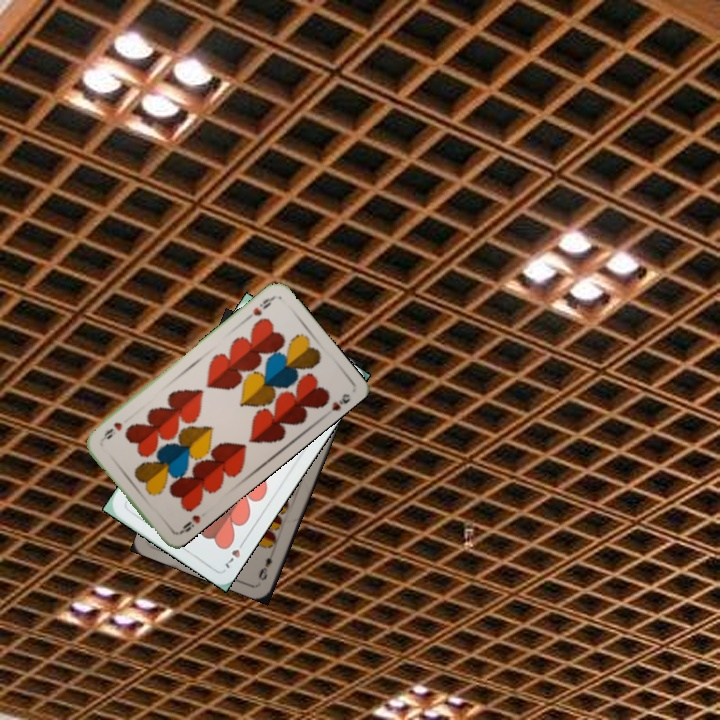E9: (254, 553, 275, 583)
H7: (220, 536, 248, 571)
H9: (242, 293, 277, 323), (173, 511, 203, 537)
